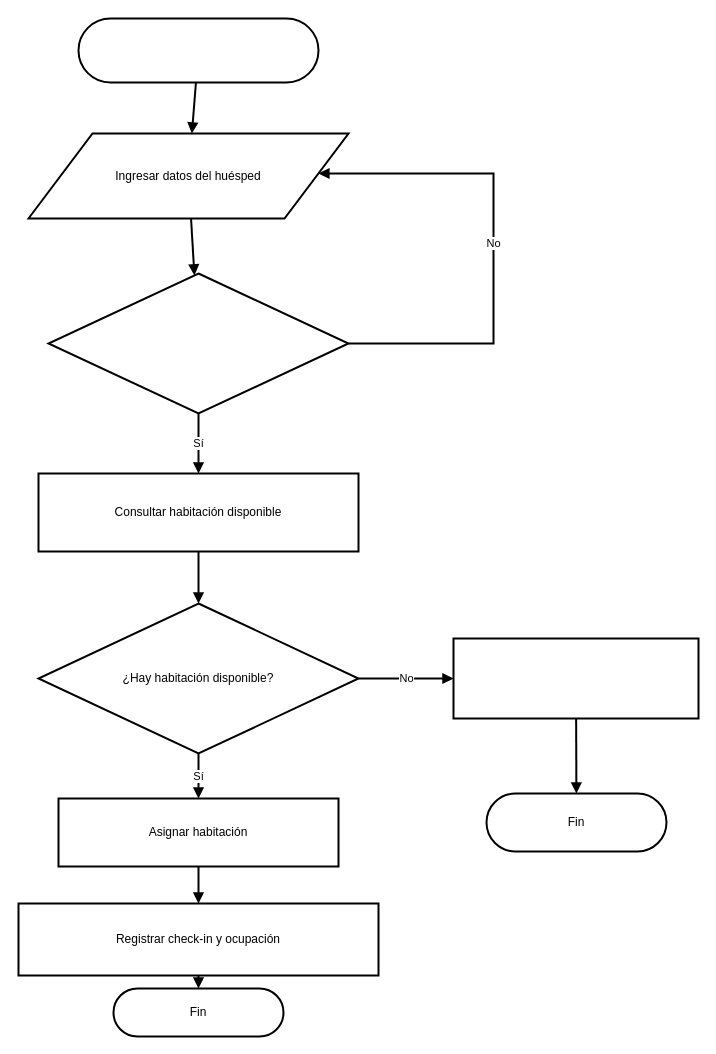
Image size: 716x1054. Some labels were removed from this diagram. The centre of each missing label's shape, as x and y in pixels:
Informar que no hay disponibilidad: (575,678)
Inicio: (198,50)
¿Datos completos?: (198,343)
